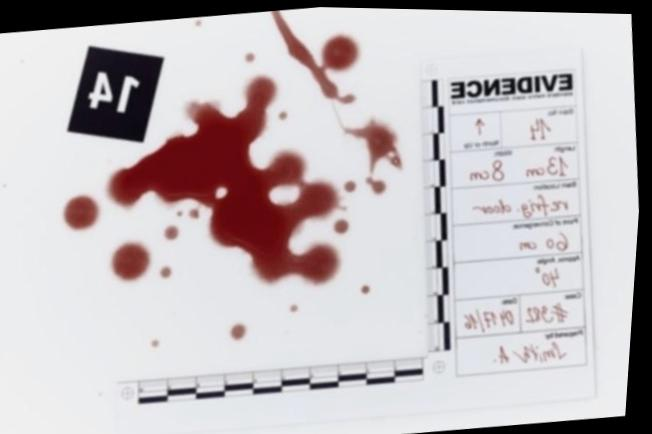Fire: (109, 73, 349, 283), (271, 8, 362, 101), (344, 115, 404, 173), (114, 239, 154, 279), (66, 193, 102, 228), (368, 174, 389, 191), (234, 321, 251, 338), (167, 223, 183, 238), (337, 216, 352, 231), (347, 177, 359, 190)
